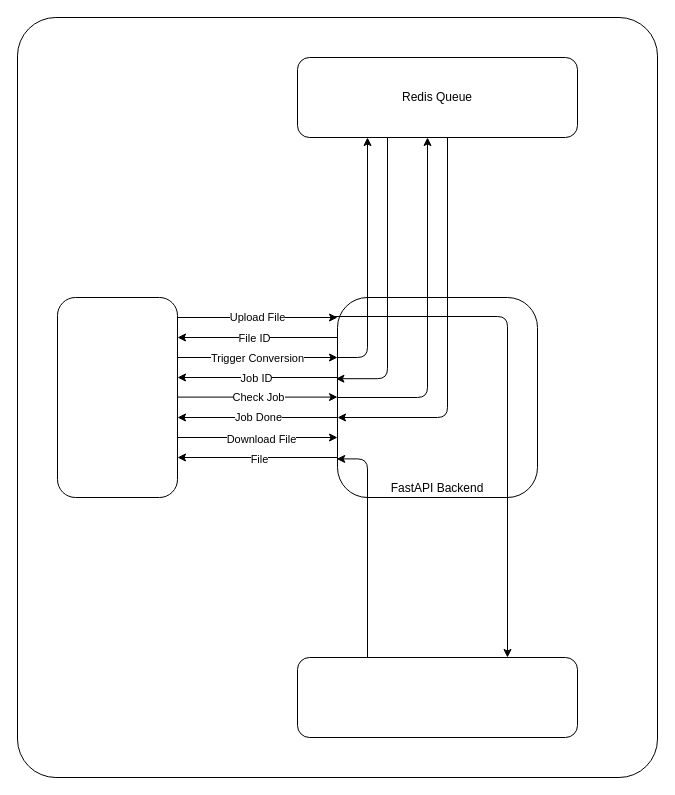
Some shapes in this 675 by 795 pixel diagram are drawn without their labels. The centre of each missing label's shape, as x and y in pixels:
"File Storage?" belongs at point (437, 697).
"Frontend" belongs at point (117, 397).
